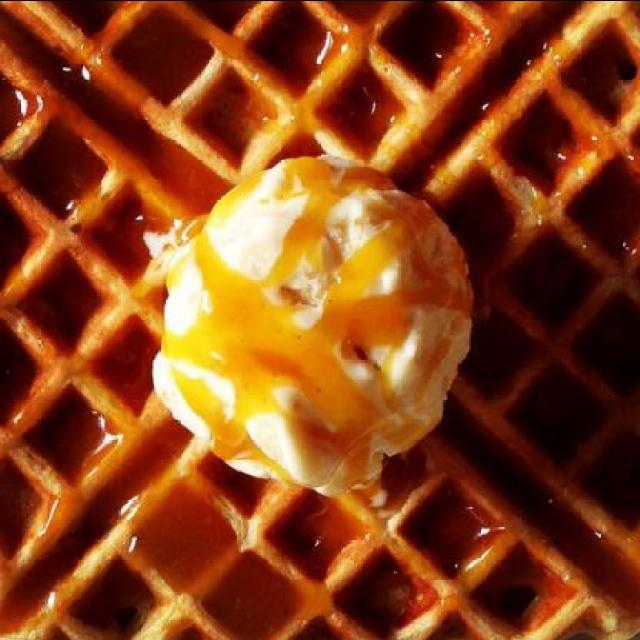Waffle: (0, 3, 638, 640)
